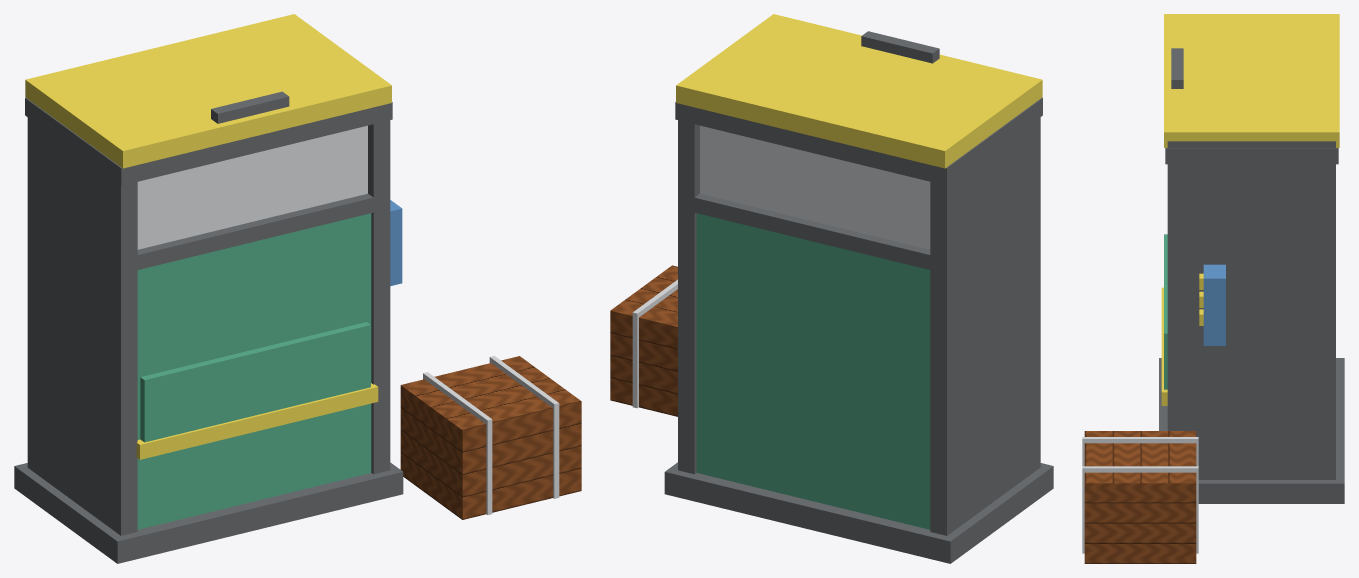
Rendered from recycling-and-waste-transfer-yard-recycling-and-waste--28ba69b7__34917.glb.
3 renders of one model, left to right at view 1: azimuth 30°, elevation 25°; view 2: azimuth 150°, elevation 25°; view 3: azimuth 270°, elevation 25°, orthographic. The views are drawn at different scales.
Parts seen in each view (by area): view 1: recycling-and-waste-transfer-yard-baler-machine, baler-lid/yellow, baler-lid/charcoal; view 2: recycling-and-waste-transfer-yard-baler-machine, baler-lid/yellow, baler-lid/charcoal; view 3: recycling-and-waste-transfer-yard-baler-machine, baler-lid/yellow, baler-lid/charcoal.
Boxes of the visible parts, box(x1,y1,x2,y2) form: recycling-and-waste-transfer-yard-baler-machine: box(14, 97, 581, 563); baler-lid/yellow: box(25, 14, 391, 168); baler-lid/charcoal: box(211, 91, 289, 123); recycling-and-waste-transfer-yard-baler-machine: box(610, 97, 1053, 563); baler-lid/yellow: box(676, 14, 1042, 168); baler-lid/charcoal: box(861, 31, 939, 63); recycling-and-waste-transfer-yard-baler-machine: box(1082, 141, 1344, 563); baler-lid/yellow: box(1164, 14, 1339, 147); baler-lid/charcoal: box(1171, 48, 1183, 88).
Bounding box in the file's own units: 3.55 × 3.36 × 2.12.
Materials: 6 (1 with a texture image).
